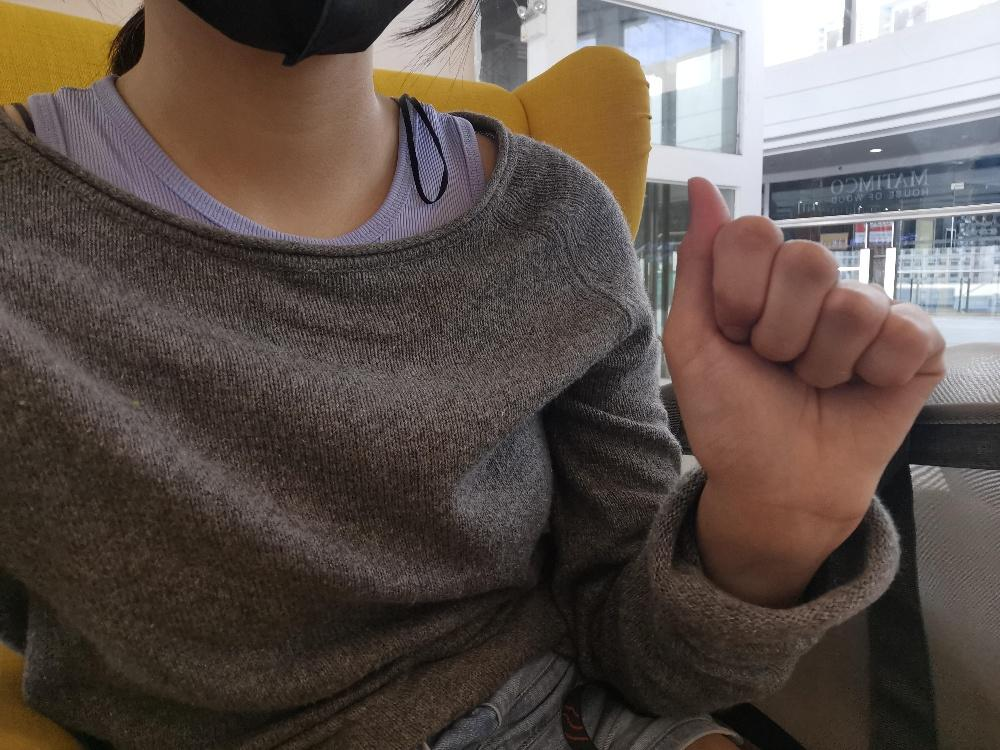a: (657, 172, 947, 533)
